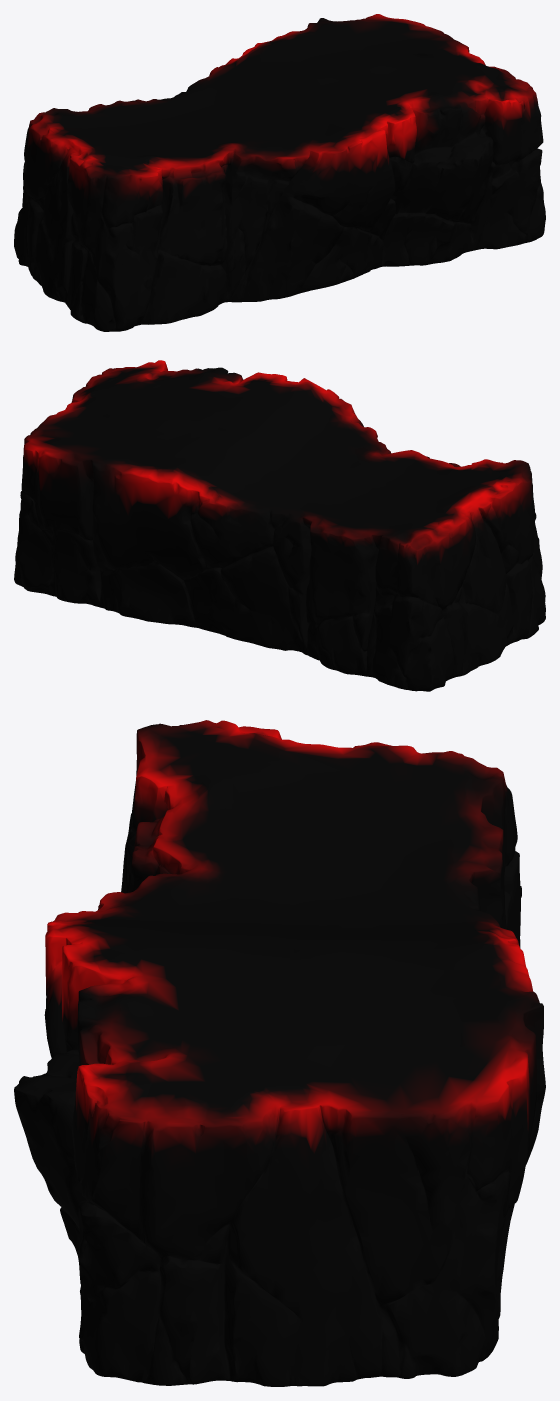
The model's file is OuterBank_06_BrokenMassif.fbx.
The picture shows the model from 3 angles, top to bottom: view 1: azimuth 30°, elevation 25°; view 2: azimuth 150°, elevation 25°; view 3: azimuth 270°, elevation 25°; orthographic projection. The views are drawn at different scales.
Parts seen in each view (by area): view 1: OuterBank_06_BrokenMassif; view 2: OuterBank_06_BrokenMassif; view 3: OuterBank_06_BrokenMassif.
Part boxes in pixels (x1,y1,x2,y2): OuterBank_06_BrokenMassif: (14, 14, 545, 331); OuterBank_06_BrokenMassif: (14, 360, 545, 691); OuterBank_06_BrokenMassif: (14, 720, 545, 1386).
Bounding box in the file's own units: 11000 × 3724 × 6112.
